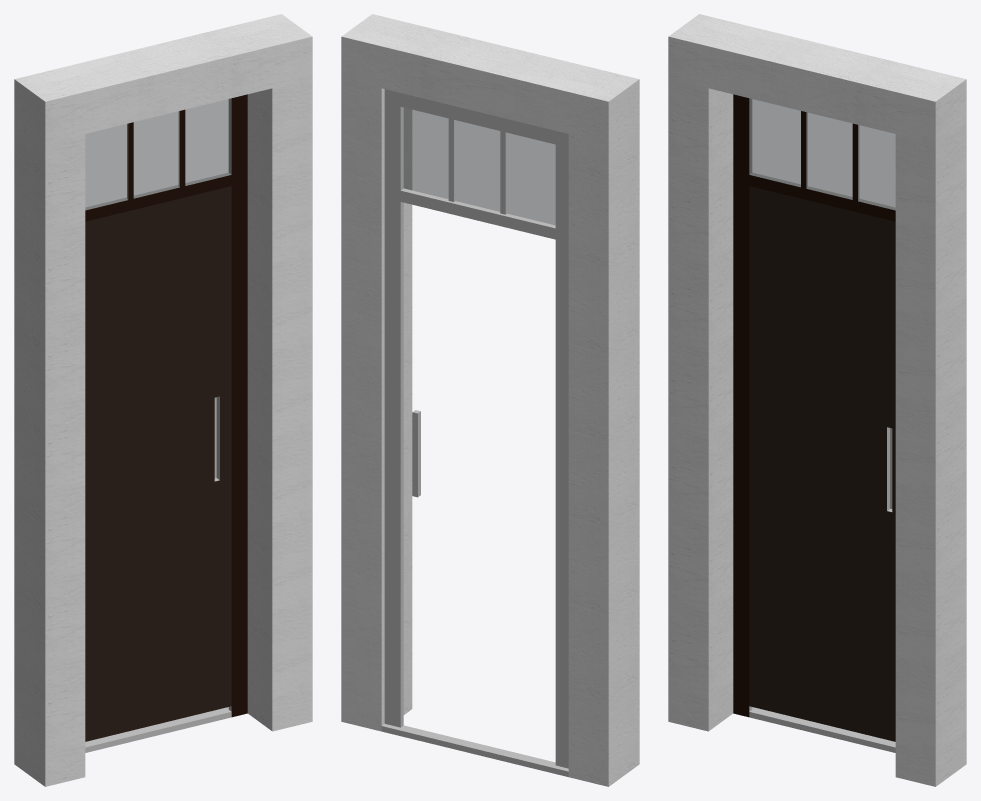
Rendered from 門 1（普通門）_20210830.gltf.
The picture shows the model from 3 angles, left to right: view 1: azimuth 30°, elevation 25°; view 2: azimuth 150°, elevation 25°; view 3: azimuth 330°, elevation 25°; orthographic projection.
Parts seen in each view (by area): view 1: root; view 2: root; view 3: root.
Part boxes in pixels (x1,y1,x2,y2): root: (14, 14, 312, 786); root: (341, 14, 639, 786); root: (668, 14, 966, 786).
Bounding box in the file's own units: 1 × 2.45 × 0.2.
Materials: 5 (1 with a texture image).
